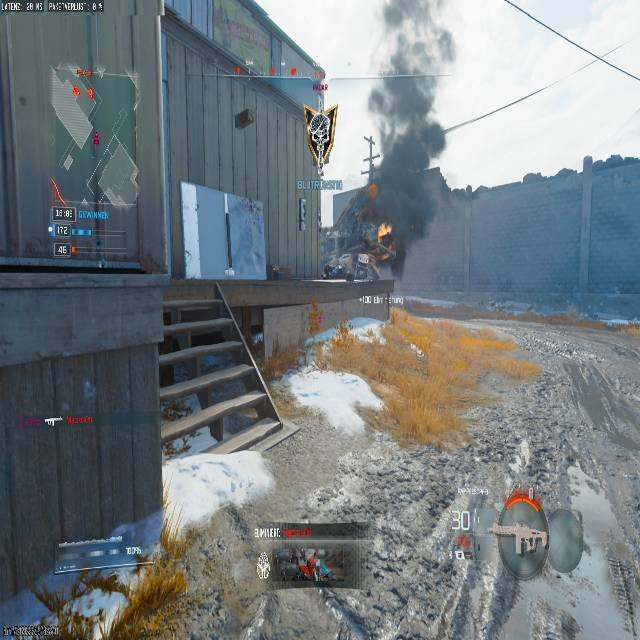player: (363, 0, 457, 278), (305, 105, 336, 170)
